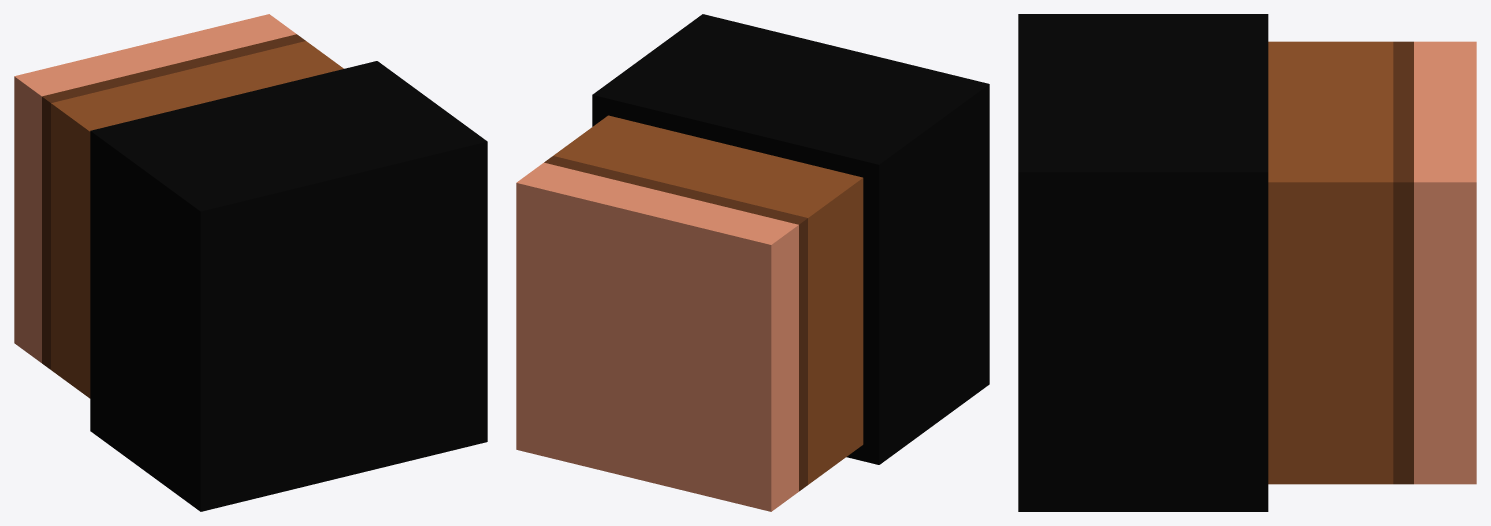
The model's file is NPC6_leftarm_1.obj.
3 views of the same model, side by side, from view 1: azimuth 30°, elevation 25°; view 2: azimuth 150°, elevation 25°; view 3: azimuth 270°, elevation 25° (orthographic). The views are drawn at different scales.
Size of the model in its own units: 1.8 by 1.8 by 2.2.
1 material, 1 textured.
